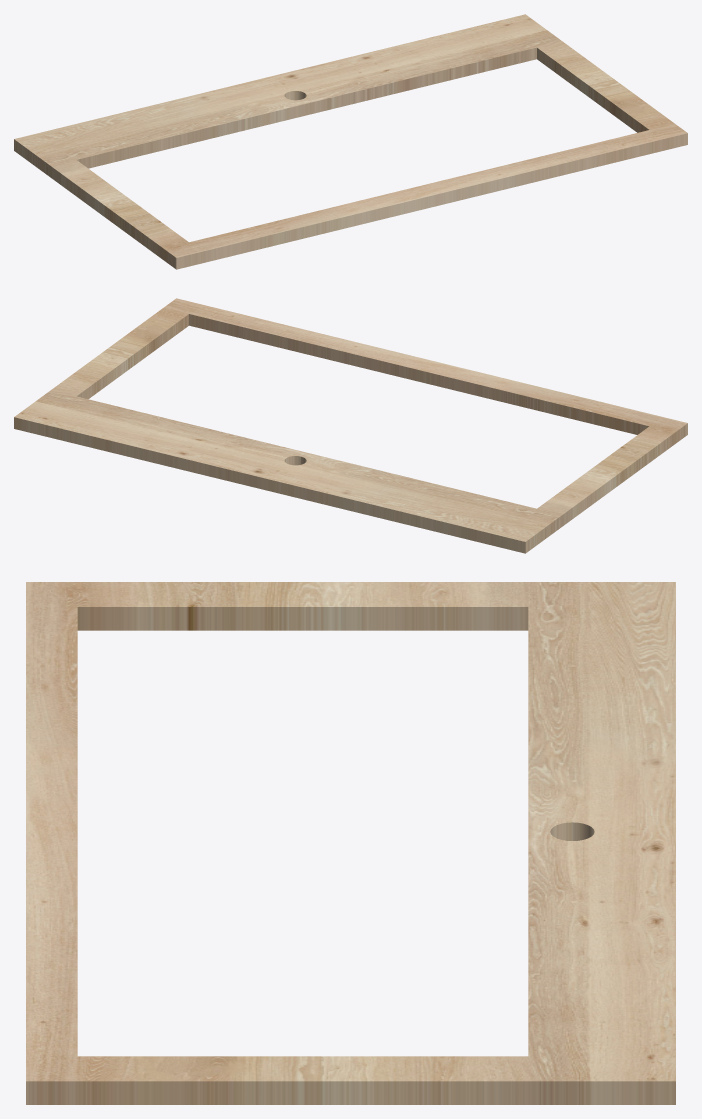
File: sinkWorkTopMapleWood.glb
The picture shows the model from 3 angles, top to bottom: view 1: azimuth 30°, elevation 25°; view 2: azimuth 150°, elevation 25°; view 3: azimuth 270°, elevation 25°; orthographic projection. The views are drawn at different scales.
Visible parts, largest first — view 1: SinkWorkSurfaceWood; view 2: SinkWorkSurfaceWood; view 3: SinkWorkSurfaceWood.
Boxes of the visible parts, box(x1,y1,x2,y2) form: SinkWorkSurfaceWood: box(14, 14, 687, 269); SinkWorkSurfaceWood: box(14, 298, 687, 553); SinkWorkSurfaceWood: box(26, 582, 675, 1104).
Size of the model in its own units: 1.02 by 0.0222 by 0.5588.
1 material, 1 textured.
